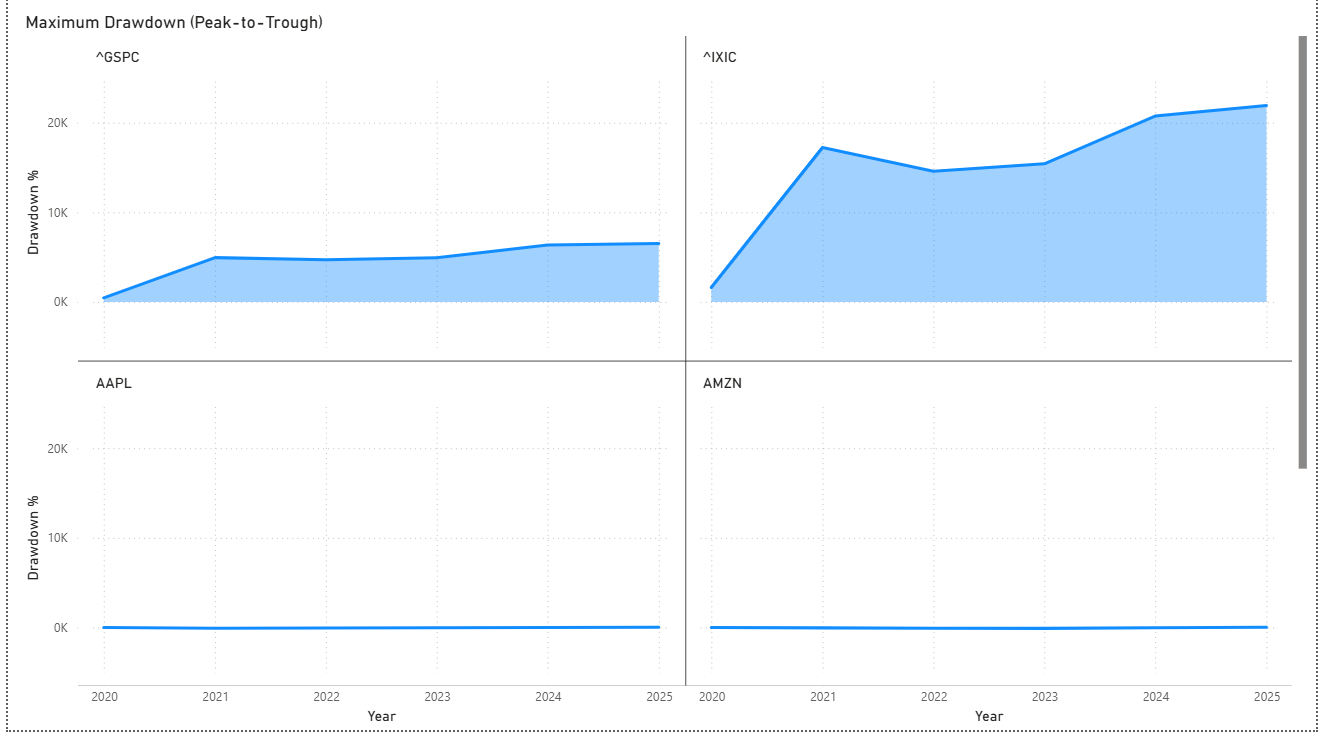

The page's visual inventory and layout, read from the dashboard file:
{"tool":"powerbi","page":{"name":"Maximun Drawdown","canvas":[1280,720],"ordinal":2},"visuals":[{"type":"areaChart","title":"Maximum Drawdown (Peak-to-Trough)","fields":{"Category":["price_history.price_date.Variation.Date Hierarchy.Year","price_history.price_date.Variation.Date Hierarchy.Quarter","price_history.price_date.Variation.Date Hierarchy.Month","price_history.price_date.Variation.Date Hierarchy.Day"],"Y":["Sum(price_history.Drawdown %)"],"Rows":["price_history.symbol"]},"box":[12.2,17.1,1263.2,703.1],"z":0}]}

Visuals, with their boxes in screenshot pixels (x1, y1, x2, y2), scaled from the page's 1280x720 canvas onto the 1320x735 screenshot:
"Maximum Drawdown (Peak-to-Trough)" areaChart: <region>13, 17, 1315, 734</region>
